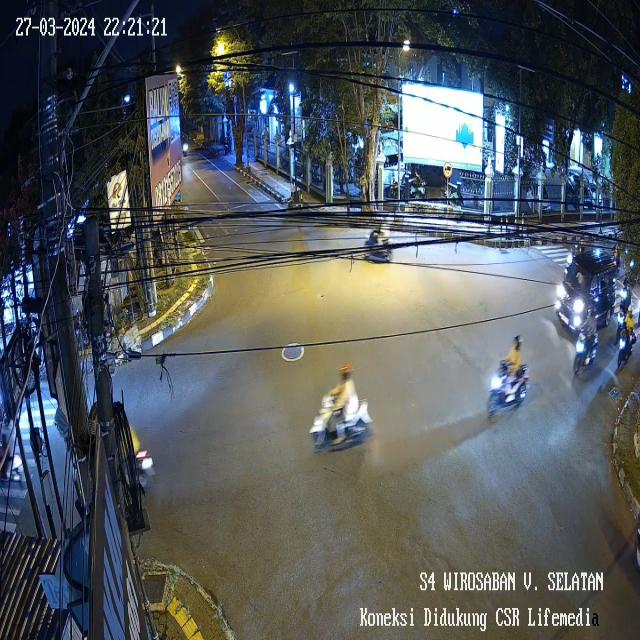car: (550, 247, 618, 338)
motorcycle: (310, 366, 374, 456), (483, 346, 536, 430), (117, 427, 154, 493), (572, 321, 602, 384), (359, 224, 399, 268), (616, 327, 637, 370), (616, 296, 632, 338), (622, 267, 634, 299)
